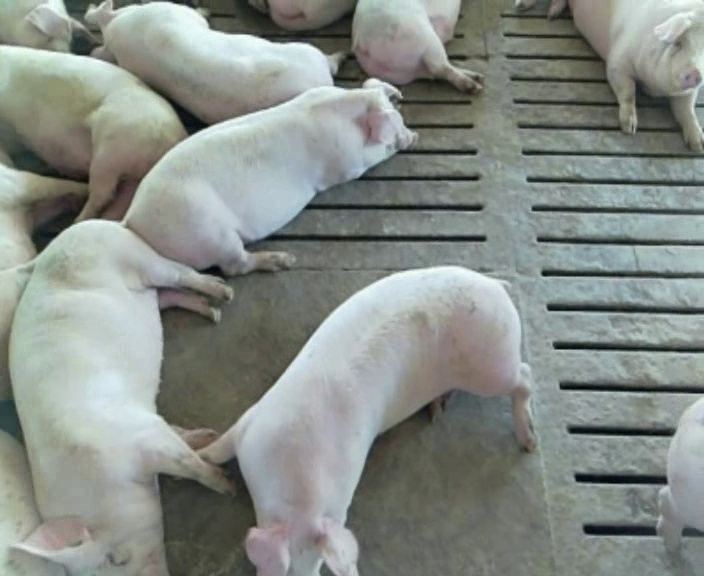pig: (199, 266, 535, 574), (10, 221, 232, 575), (123, 79, 416, 274), (85, 2, 339, 123), (572, 2, 703, 150), (352, 2, 482, 92), (657, 397, 703, 552), (249, 0, 354, 30)
